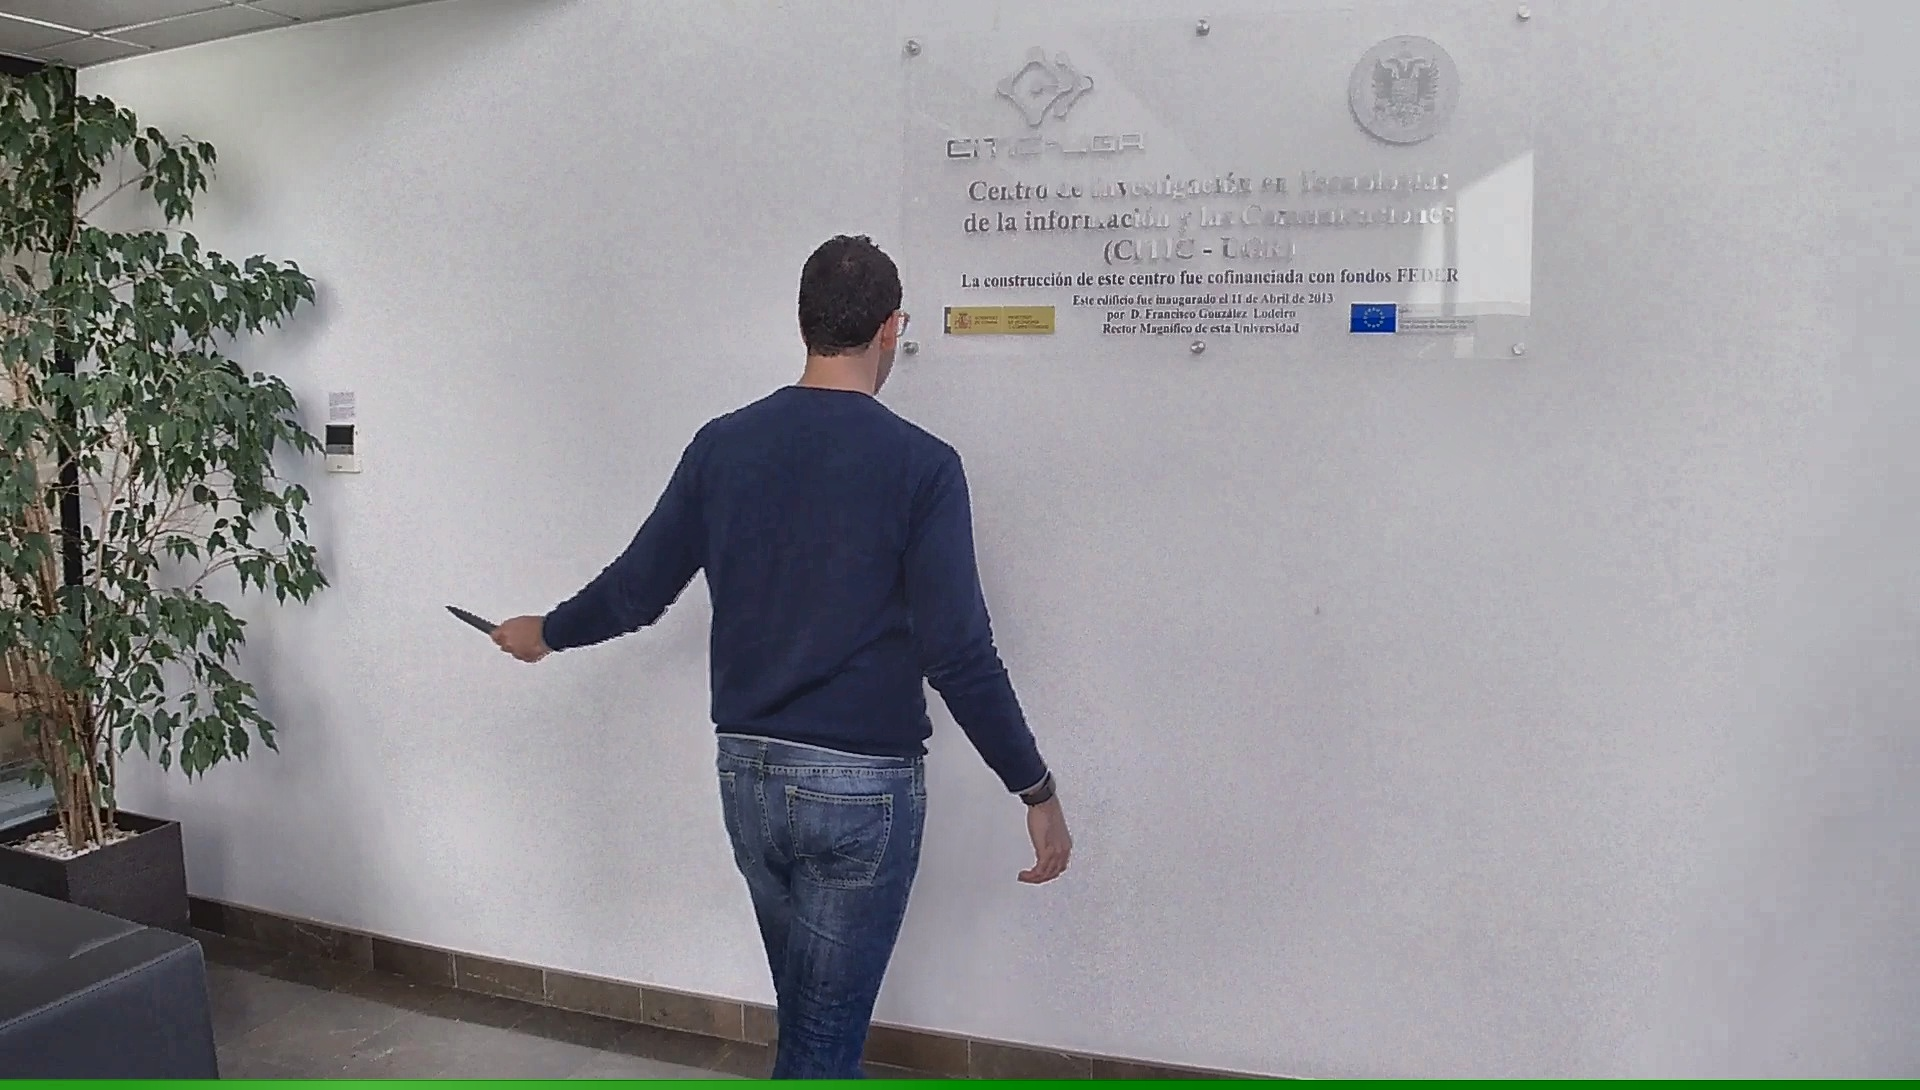knife: (438, 596, 524, 655)
